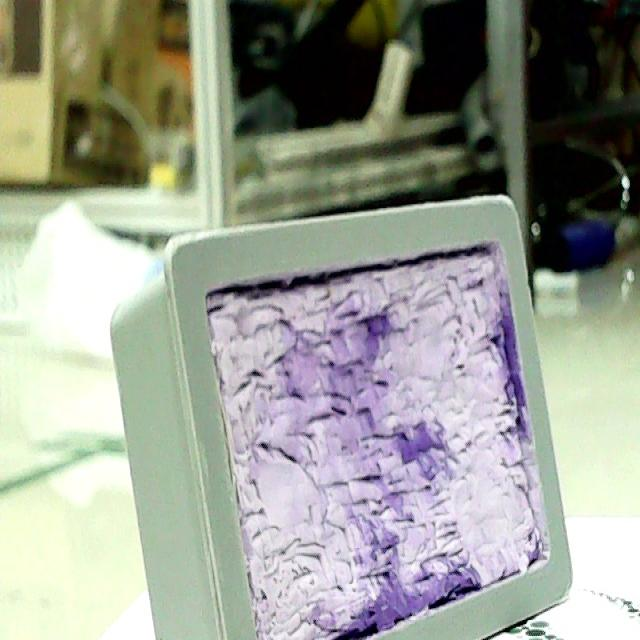block: (110, 198, 573, 637)
